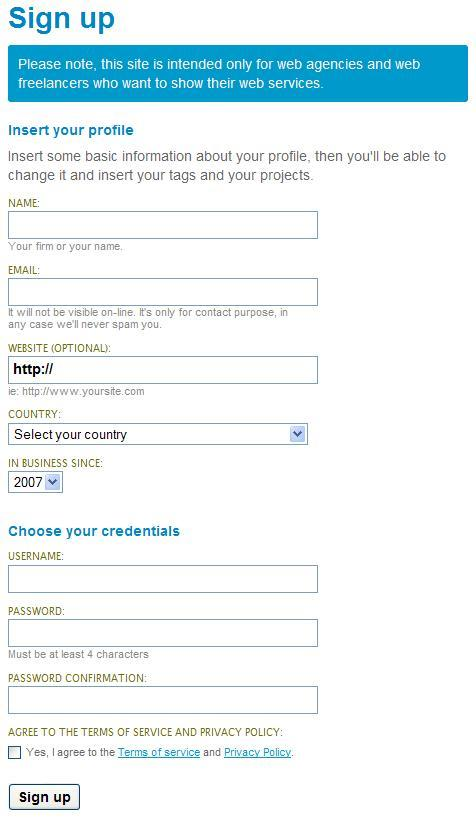button: (4, 779, 87, 814)
checkbox: (6, 740, 25, 763)
dropdown: (7, 468, 68, 496)
